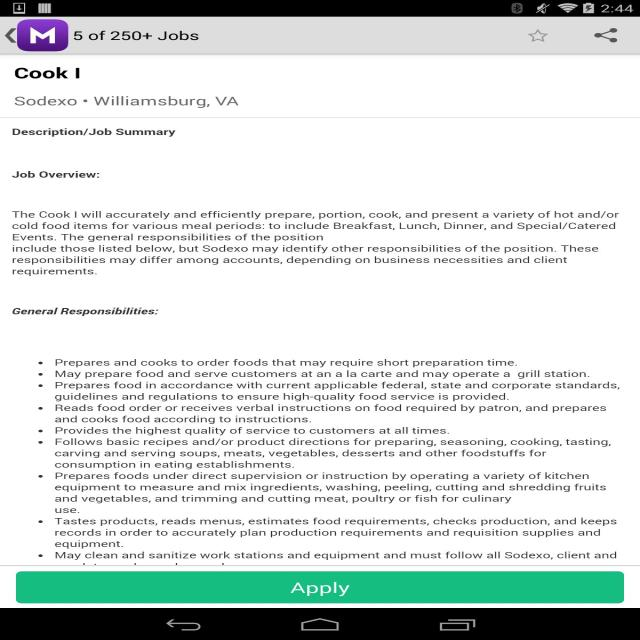button: (16, 568, 628, 604), (590, 24, 624, 47), (2, 22, 18, 52), (527, 28, 553, 46)
heading: (6, 304, 167, 321), (72, 27, 208, 47), (8, 124, 178, 140), (11, 62, 93, 86), (11, 170, 106, 182)
image: (22, 18, 68, 52)
text: (29, 350, 638, 568), (9, 208, 633, 278)
